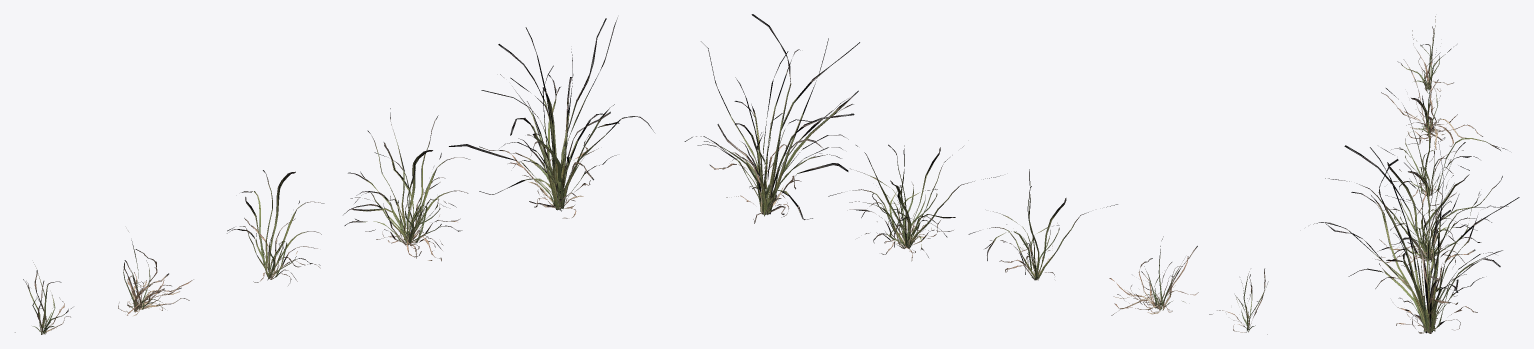
Rendered from grass_medium_02.glb.
The picture shows the model from 3 angles, left to right: view 1: azimuth 30°, elevation 25°; view 2: azimuth 150°, elevation 25°; view 3: azimuth 270°, elevation 25°; orthographic projection. The views are drawn at different scales.
Visible parts, largest first — view 1: grass_medium_02_e, grass_medium_02_d, grass_medium_02_c, grass_medium_02_b, grass_medium_02_a; view 2: grass_medium_02_e, grass_medium_02_d, grass_medium_02_c, grass_medium_02_b, grass_medium_02_a; view 3: grass_medium_02_e, grass_medium_02_d, grass_medium_02_c, grass_medium_02_b, grass_medium_02_a.
Part boxes in pixels (x1,y1,x2,y2): grass_medium_02_e: (449,17,654,218); grass_medium_02_d: (343,108,470,261); grass_medium_02_c: (227,170,324,285); grass_medium_02_b: (118,231,193,315); grass_medium_02_a: (15,262,72,334); grass_medium_02_e: (684,14,859,223); grass_medium_02_d: (828,144,1000,261); grass_medium_02_c: (968,169,1117,280); grass_medium_02_b: (1109,236,1198,315); grass_medium_02_a: (1209,268,1268,334); grass_medium_02_e: (1313,141,1519,333); grass_medium_02_d: (1325,142,1508,272); grass_medium_02_c: (1386,88,1506,214); grass_medium_02_b: (1381,50,1482,149); grass_medium_02_a: (1397,16,1453,91).
Bounding box in the file's own units: 1.31 × 0.4056 × 0.4317.
Materials: 1 (1 with a texture image).
